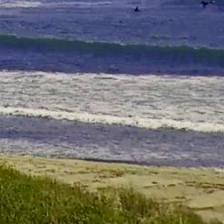surfer: (200, 0, 214, 8), (134, 6, 140, 13)
